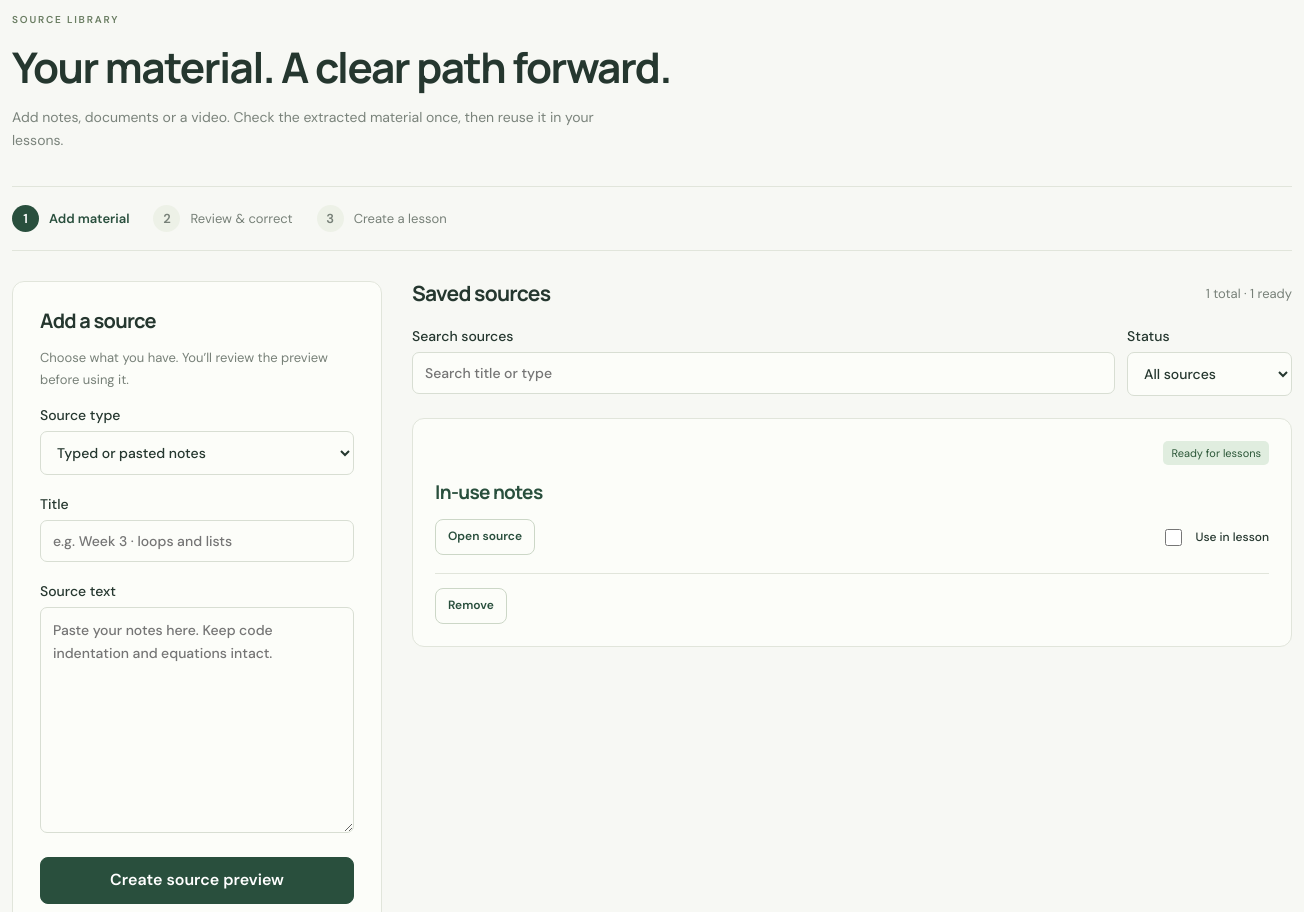
it: keeps a source visible and displays an in-use removal error
Step 1. Click the button with aria-label "Remove source In-use notes" → (471, 606), box x1=435 y1=588 x2=507 y2=624
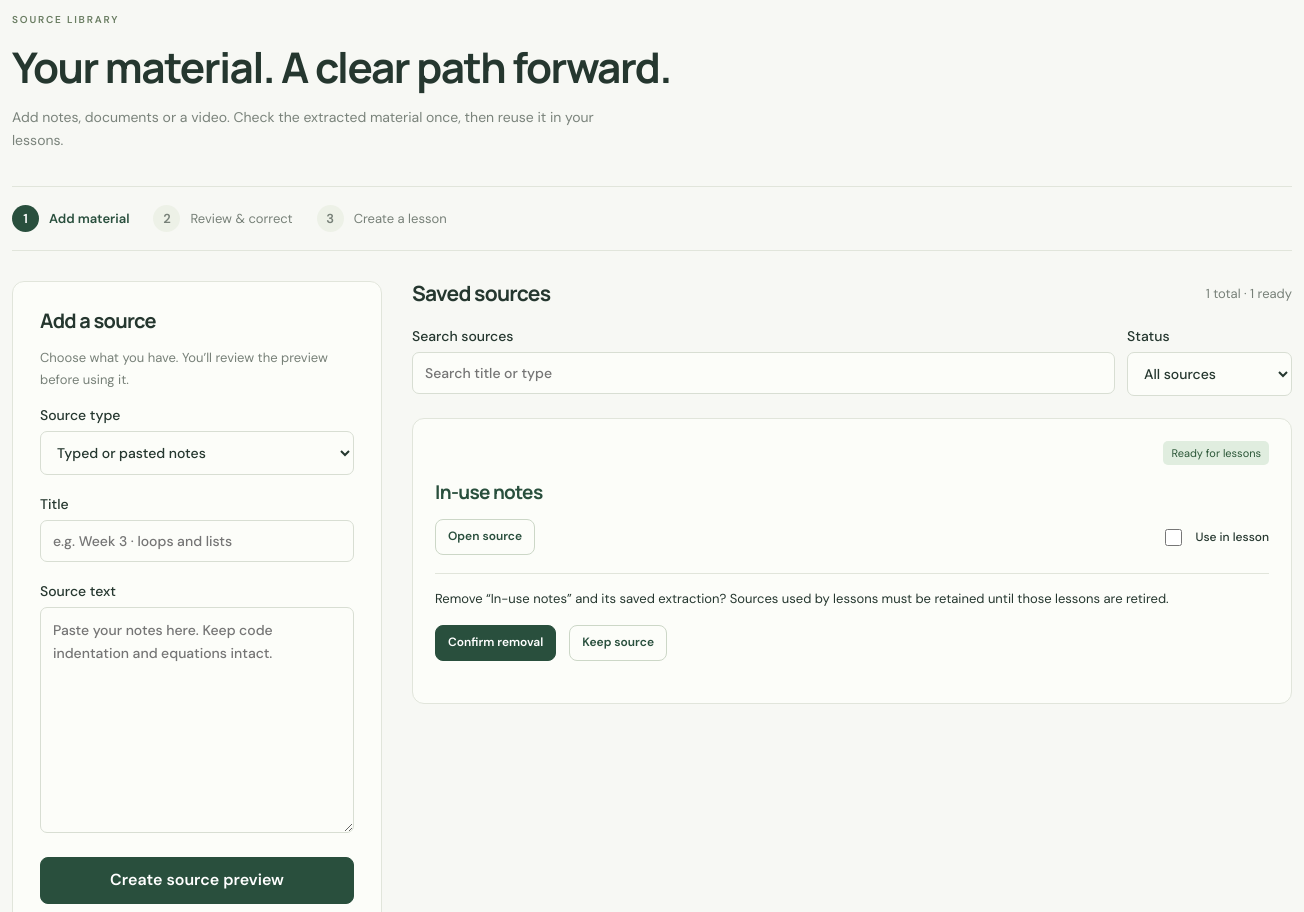
Step 2. Click the button "Confirm removal" → (496, 643), box x1=435 y1=625 x2=556 y2=661
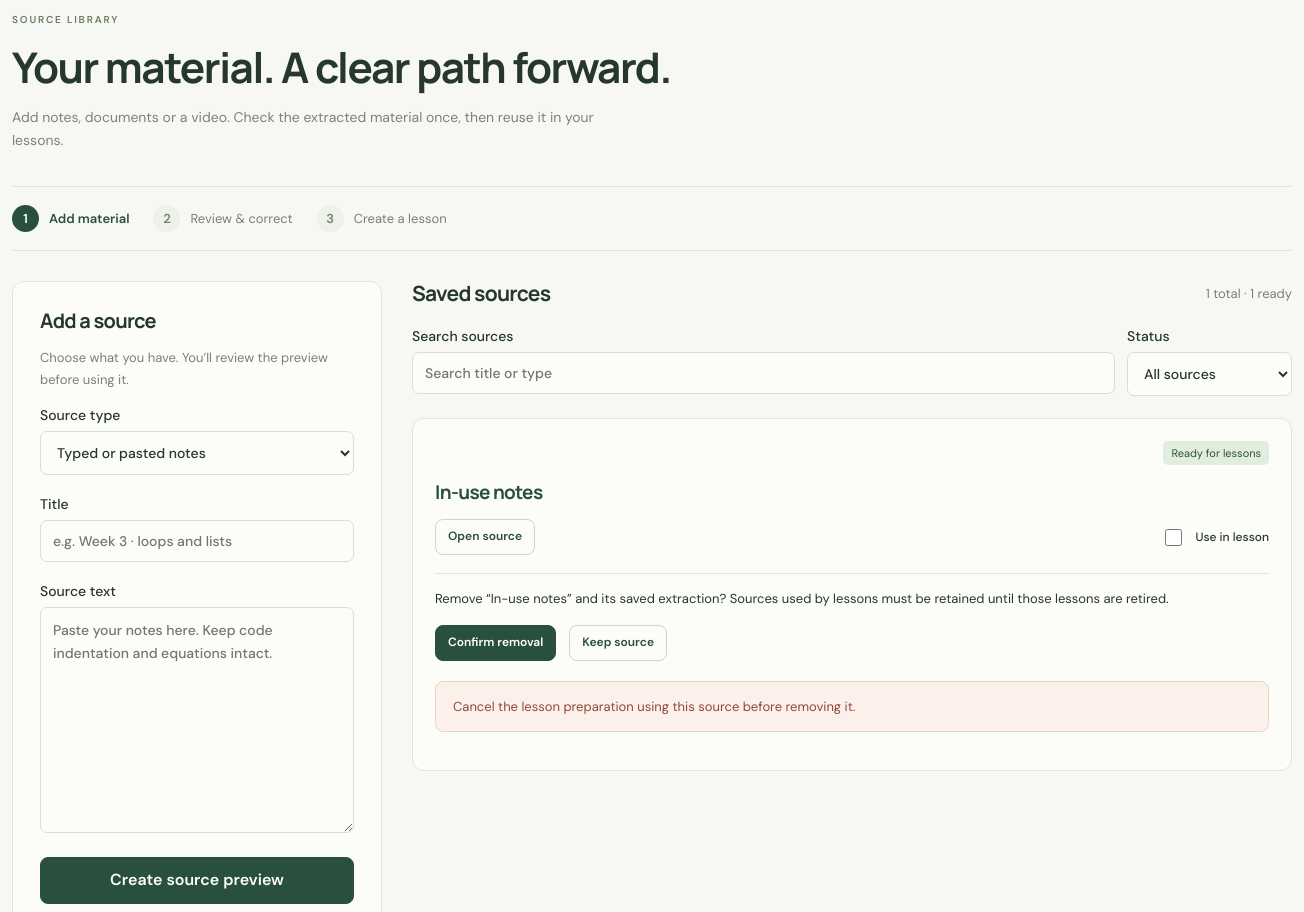
Expected: the link "In-use notes" is shown, x1=435 y1=478 x2=542 y2=504
Expected: the message shows "Cancel the lesson preparation", x1=453 y1=698 x2=855 y2=715
